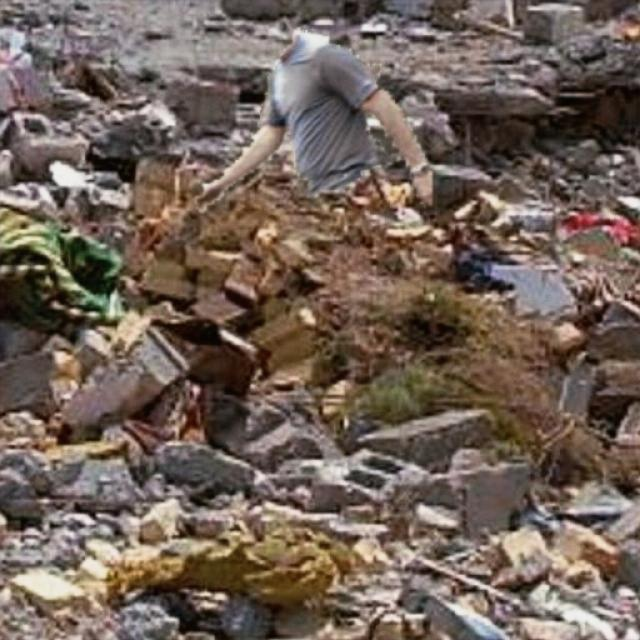Person in Rubble: (195, 28, 431, 212)
